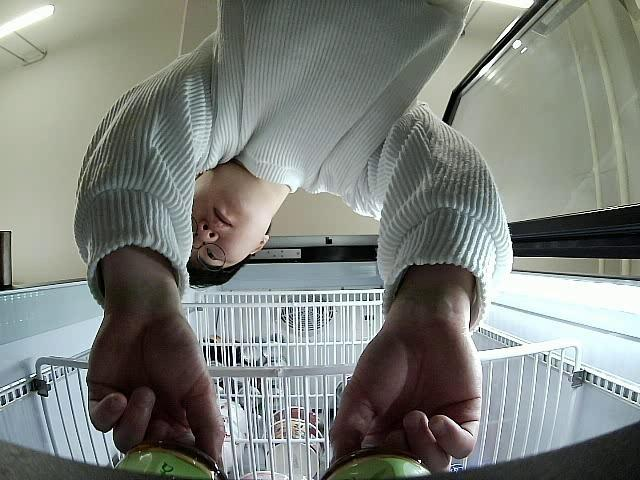19_17cha: (112, 440, 228, 480), (323, 447, 432, 480)
